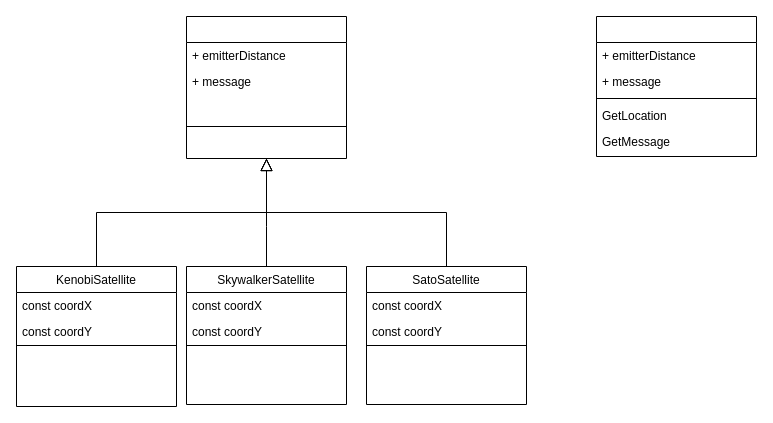
The diagram is 773 pixels wide and 423 high, and some of its shapes have lost their labels. The shapes that lost their labels are listed below. From the top down, each one's box as (x1, y1, x2, y2) in pixels, then its label:
(186, 16, 346, 158): Abstract Satellite
(596, 16, 756, 156): SatelliteController
